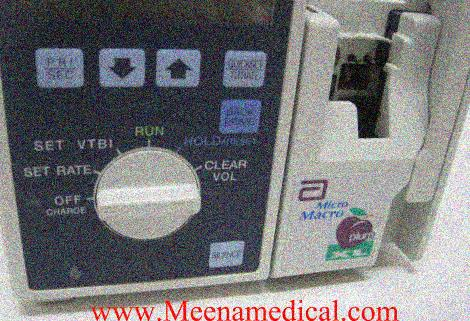plumxl1: (3, 5, 468, 295)
